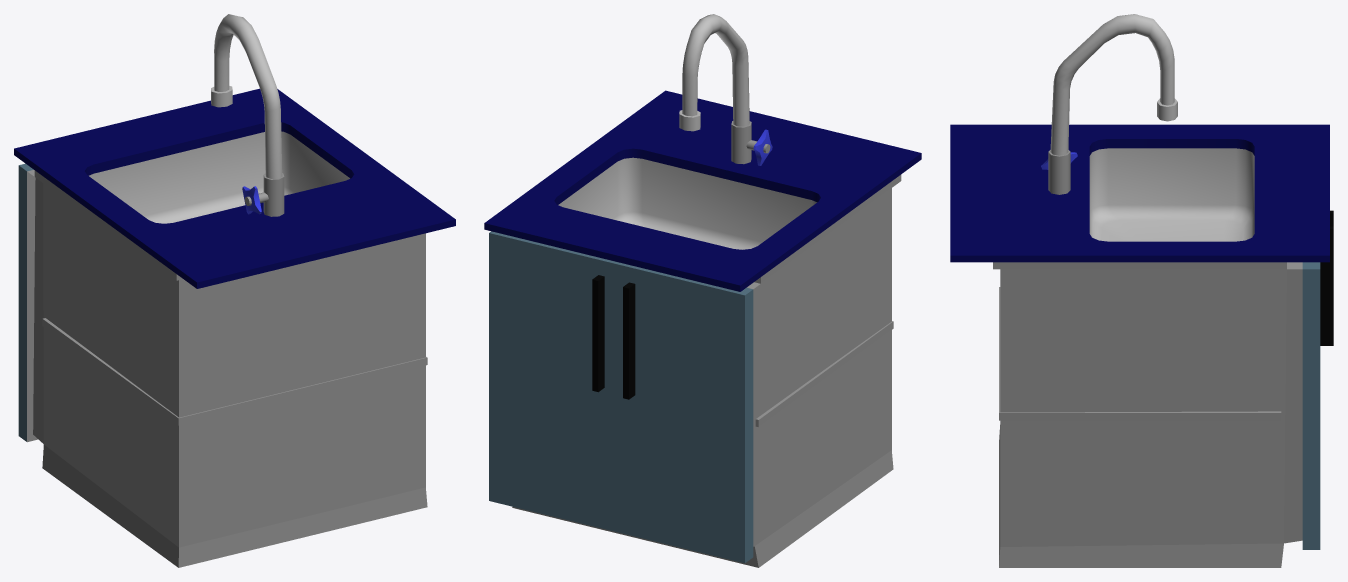
File: counter_counter_sink 1.fbx
The picture shows the model from 3 angles, left to right: view 1: azimuth 30°, elevation 25°; view 2: azimuth 150°, elevation 25°; view 3: azimuth 270°, elevation 25°; orthographic projection. The views are drawn at different scales.
Parts seen in each view (by area): view 1: counter_counter_sink.001, counter_counter_sink_faucet.001, counter_counter_cabinet_door008; view 2: counter_counter_sink.001, counter_counter_cabinet_door008, counter_counter_cabinet_door009, counter_counter_sink_faucet.001; view 3: counter_counter_sink.001, counter_counter_cabinet_door009, counter_counter_sink_faucet.001.
Part boxes in pixels (x1,y1,x2,y2): counter_counter_sink.001: [14, 88, 455, 567]; counter_counter_sink_faucet.001: [211, 14, 282, 178]; counter_counter_cabinet_door008: [18, 163, 33, 441]; counter_counter_sink.001: [484, 90, 921, 567]; counter_counter_cabinet_door008: [617, 262, 753, 563]; counter_counter_cabinet_door009: [489, 231, 618, 531]; counter_counter_sink_faucet.001: [679, 14, 749, 131]; counter_counter_sink.001: [950, 124, 1329, 567]; counter_counter_cabinet_door009: [1302, 226, 1333, 549]; counter_counter_sink_faucet.001: [1050, 14, 1177, 155].
Size of the model in its own units: 6202 by 10848 by 7673.
